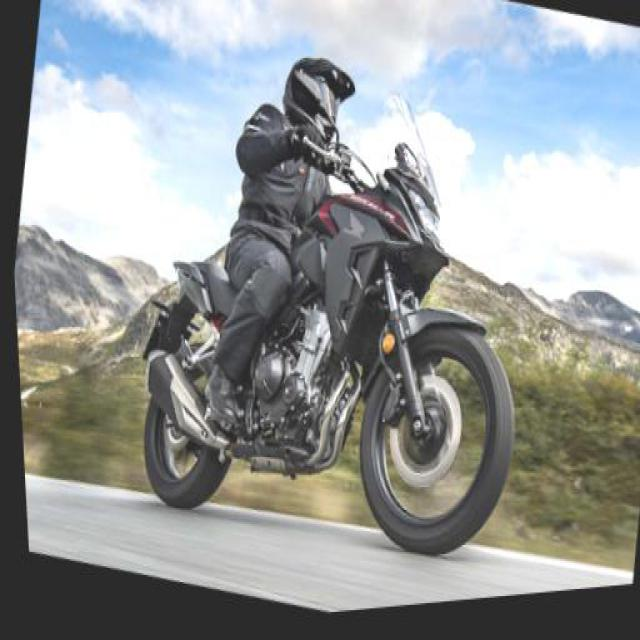CB500X: (107, 24, 564, 612)
